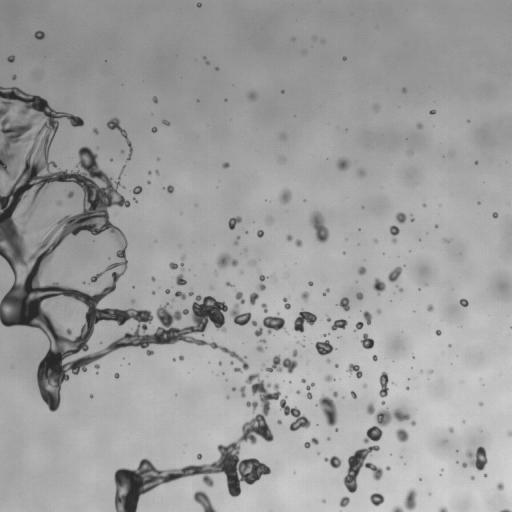droplet: (461, 446, 487, 471), (292, 308, 317, 332), (215, 252, 238, 269), (314, 339, 337, 356), (323, 455, 343, 468), (372, 277, 386, 295), (346, 363, 362, 378), (388, 266, 402, 282), (360, 333, 374, 349), (330, 318, 347, 331), (395, 427, 409, 442), (369, 492, 384, 506), (279, 188, 291, 205), (389, 225, 400, 243), (336, 157, 350, 171), (228, 216, 242, 230), (335, 297, 349, 311), (363, 310, 372, 325), (395, 212, 406, 224), (339, 496, 350, 507), (1, 78, 12, 89), (26, 85, 37, 96), (47, 98, 58, 109), (58, 117, 69, 128), (95, 159, 106, 170), (345, 164, 356, 175), (106, 204, 117, 215), (227, 247, 238, 258), (309, 285, 320, 296), (155, 294, 166, 305), (224, 296, 235, 307), (182, 297, 193, 308), (174, 299, 185, 310), (359, 299, 370, 310), (239, 302, 250, 313), (334, 308, 345, 319), (222, 310, 233, 321), (252, 310, 263, 321), (149, 318, 160, 329), (283, 318, 294, 329), (14, 323, 25, 334), (146, 323, 157, 334), (173, 339, 184, 350), (258, 371, 269, 382), (349, 377, 360, 388), (311, 388, 322, 399), (356, 396, 367, 407), (385, 402, 396, 413), (243, 410, 254, 421), (264, 415, 275, 426), (366, 415, 377, 426), (388, 418, 399, 429), (266, 420, 277, 431), (239, 440, 250, 451), (210, 450, 221, 461), (202, 454, 213, 465), (127, 460, 138, 471), (171, 460, 182, 471), (338, 462, 349, 473), (358, 466, 369, 477), (215, 471, 226, 482), (157, 481, 168, 492), (137, 493, 148, 504), (394, 495, 405, 506), (129, 185, 142, 194), (300, 291, 310, 302), (353, 321, 363, 332), (34, 30, 45, 39), (162, 185, 174, 193), (247, 91, 257, 100), (356, 168, 366, 177), (248, 259, 257, 269), (458, 298, 468, 307), (260, 302, 268, 313), (324, 374, 335, 382), (357, 266, 366, 275), (99, 124, 108, 133), (339, 150, 348, 159), (328, 158, 337, 167), (123, 191, 132, 200), (271, 191, 280, 200), (289, 193, 298, 202), (322, 219, 331, 228), (209, 253, 218, 262), (379, 274, 388, 283), (348, 297, 357, 306), (95, 300, 104, 309), (346, 319, 355, 328), (361, 324, 370, 333), (37, 349, 46, 358), (325, 364, 334, 373), (330, 368, 339, 377), (252, 391, 261, 400), (331, 396, 340, 405), (373, 403, 382, 412), (334, 410, 343, 419), (318, 413, 327, 422), (285, 414, 294, 423), (399, 420, 408, 429), (237, 451, 246, 460), (107, 479, 116, 488), (238, 480, 247, 489), (199, 483, 208, 492), (278, 132, 287, 140), (266, 216, 274, 225), (496, 481, 504, 490), (505, 480, 511, 491), (105, 505, 116, 511), (134, 505, 145, 511), (193, 505, 204, 511), (372, 505, 383, 511), (161, 119, 170, 126), (356, 291, 363, 300), (350, 390, 357, 399), (225, 281, 235, 287), (6, 55, 14, 62), (372, 104, 379, 112), (222, 162, 230, 169), (55, 200, 63, 207), (257, 229, 264, 237), (295, 239, 302, 247), (0, 52, 5, 63), (416, 122, 423, 129), (209, 60, 216, 67), (81, 140, 88, 147), (90, 146, 97, 153), (73, 154, 80, 161), (0, 189, 7, 196), (284, 201, 291, 208), (108, 216, 115, 223), (309, 227, 316, 234), (326, 234, 333, 241), (318, 241, 325, 248), (236, 261, 243, 268), (225, 263, 232, 270), (387, 264, 394, 271), (351, 266, 358, 273), (172, 268, 179, 275), (355, 273, 362, 280), (395, 276, 402, 283), (115, 278, 122, 285), (150, 282, 157, 289), (177, 284, 184, 291), (303, 284, 310, 291), (256, 289, 263, 296), (242, 293, 249, 300), (215, 295, 222, 302), (117, 303, 124, 310), (137, 303, 144, 310), (226, 303, 233, 310), (167, 307, 174, 314), (368, 308, 375, 315), (149, 309, 156, 316), (267, 309, 274, 316), (206, 320, 213, 327), (302, 320, 309, 327), (357, 328, 364, 335), (148, 342, 155, 349), (161, 342, 168, 349), (203, 344, 210, 351), (117, 346, 124, 353), (367, 347, 374, 354), (293, 355, 300, 362), (266, 359, 273, 366), (32, 360, 39, 367), (234, 360, 241, 367), (86, 362, 93, 369), (31, 364, 38, 371), (215, 365, 222, 372), (65, 368, 72, 375), (242, 369, 249, 376), (30, 372, 37, 379), (31, 380, 38, 387), (60, 380, 67, 387), (244, 384, 251, 391), (233, 389, 240, 396), (326, 392, 333, 399), (286, 400, 293, 407), (41, 402, 48, 409), (57, 402, 64, 409), (360, 404, 367, 411), (400, 407, 407, 414), (379, 424, 386, 431), (236, 429, 243, 436), (255, 434, 262, 441), (222, 439, 229, 446), (368, 439, 375, 446), (400, 440, 407, 447), (361, 442, 368, 449), (470, 446, 477, 453), (461, 455, 468, 462), (193, 459, 200, 466), (181, 460, 188, 467), (375, 461, 382, 468), (153, 462, 160, 469), (470, 465, 477, 472), (381, 469, 388, 476), (208, 472, 215, 479), (108, 473, 115, 480), (259, 473, 266, 480), (170, 478, 177, 485), (343, 489, 350, 496), (187, 493, 194, 500), (108, 494, 115, 501), (413, 495, 420, 502), (439, 500, 446, 507), (210, 501, 217, 508), (434, 502, 441, 509), (325, 314, 331, 322), (438, 506, 447, 511), (340, 506, 349, 511), (151, 126, 157, 133), (92, 128, 98, 135), (406, 150, 413, 156), (286, 234, 292, 241), (427, 304, 433, 311), (332, 390, 338, 397), (196, 453, 202, 460), (432, 505, 439, 511), (132, 197, 138, 203), (492, 212, 498, 218), (435, 329, 441, 335), (178, 355, 184, 361), (410, 420, 416, 426), (448, 427, 454, 433), (0, 168, 4, 177), (152, 96, 157, 103), (429, 109, 436, 114), (372, 354, 377, 361), (446, 506, 453, 511), (12, 74, 17, 80), (402, 87, 407, 93), (165, 288, 170, 294), (376, 308, 381, 314), (427, 369, 433, 374), (114, 372, 119, 378), (362, 382, 367, 388), (277, 419, 282, 425), (385, 465, 391, 470), (402, 507, 409, 511), (410, 507, 417, 511), (196, 2, 201, 7), (205, 60, 210, 65), (373, 238, 378, 243), (308, 281, 313, 286), (209, 285, 214, 290), (301, 378, 306, 383), (470, 475, 475, 480), (43, 34, 48, 39), (37, 38, 42, 43), (6, 51, 11, 56), (13, 57, 18, 62), (200, 59, 205, 64), (19, 85, 24, 90), (405, 85, 410, 90), (39, 93, 44, 98), (156, 96, 161, 101), (148, 99, 153, 104), (72, 111, 77, 116), (79, 114, 84, 119), (105, 116, 110, 121), (165, 116, 170, 121), (118, 122, 123, 127), (411, 123, 416, 128), (75, 125, 80, 130), (105, 127, 110, 132), (113, 127, 118, 132), (417, 128, 422, 133), (89, 131, 94, 136), (124, 145, 129, 150), (131, 150, 136, 155), (47, 156, 52, 161), (222, 157, 227, 162), (228, 160, 233, 165), (217, 163, 222, 168), (225, 166, 230, 171), (150, 170, 155, 175), (146, 174, 151, 179), (119, 179, 124, 184), (168, 180, 173, 185), (116, 187, 121, 192), (172, 188, 177, 193), (166, 192, 171, 197), (134, 193, 139, 198), (129, 199, 134, 204), (120, 204, 125, 209), (231, 212, 236, 217), (497, 212, 502, 217), (405, 215, 410, 220), (394, 221, 399, 226), (234, 222, 239, 227), (224, 224, 229, 229), (252, 232, 257, 237), (388, 233, 393, 238), (394, 233, 399, 238), (281, 234, 286, 239), (445, 234, 450, 239), (298, 235, 303, 240), (237, 238, 242, 243), (290, 238, 295, 243), (301, 240, 306, 245), (389, 242, 394, 247), (442, 242, 447, 247), (296, 246, 301, 251), (124, 249, 129, 254), (175, 259, 180, 264), (362, 262, 367, 267), (213, 263, 218, 268), (182, 275, 187, 280), (171, 278, 176, 283), (255, 278, 260, 283), (262, 279, 267, 284), (370, 279, 375, 284), (236, 286, 241, 291), (264, 286, 269, 291), (353, 288, 358, 293), (372, 288, 377, 293), (169, 290, 174, 295), (193, 290, 198, 295), (379, 290, 384, 295), (208, 291, 213, 296), (231, 291, 236, 296), (296, 291, 301, 296), (342, 292, 347, 297), (200, 293, 205, 298), (362, 293, 367, 298), (175, 295, 180, 300), (307, 295, 312, 300), (254, 298, 259, 303), (286, 298, 291, 303), (335, 298, 340, 303), (426, 299, 431, 304), (347, 301, 352, 306), (422, 304, 427, 309), (432, 304, 437, 309), (338, 305, 343, 310), (178, 306, 183, 311), (307, 307, 312, 312), (426, 310, 431, 315), (262, 312, 267, 317), (271, 312, 276, 317), (294, 312, 299, 317), (278, 313, 283, 318), (249, 315, 254, 320), (370, 317, 375, 322), (361, 318, 366, 323), (246, 320, 251, 325), (313, 320, 318, 325), (328, 320, 333, 325), (239, 324, 244, 329), (253, 325, 258, 330), (32, 326, 37, 331), (262, 326, 267, 331), (336, 326, 341, 331), (278, 327, 283, 332), (270, 328, 275, 333), (295, 329, 300, 334), (367, 333, 372, 338), (258, 334, 263, 339), (320, 337, 325, 342), (216, 340, 221, 345), (328, 340, 333, 345), (191, 342, 196, 347), (260, 342, 265, 347), (357, 342, 362, 347), (372, 342, 377, 347), (200, 344, 205, 349), (295, 344, 300, 349), (125, 345, 130, 350), (136, 345, 141, 350), (227, 345, 232, 350), (141, 347, 146, 352), (214, 347, 219, 352), (312, 347, 317, 352), (235, 349, 240, 354), (255, 350, 260, 355), (273, 350, 278, 355), (296, 350, 301, 355), (181, 351, 186, 356), (224, 352, 229, 357), (238, 352, 243, 357), (325, 352, 330, 357), (148, 354, 153, 359), (231, 356, 236, 361), (279, 356, 284, 361), (244, 358, 249, 363), (92, 359, 97, 364), (122, 359, 127, 364), (351, 360, 356, 365), (329, 361, 334, 366), (344, 364, 349, 369), (282, 366, 287, 371), (358, 366, 363, 371), (97, 367, 102, 372), (292, 367, 297, 372), (422, 369, 427, 374), (351, 370, 356, 375), (376, 371, 381, 376), (428, 373, 433, 378), (360, 374, 365, 379), (387, 375, 392, 380), (305, 380, 310, 385), (405, 380, 410, 385), (301, 382, 306, 387), (385, 382, 390, 387), (235, 385, 240, 390), (376, 385, 381, 390), (228, 390, 233, 395), (337, 391, 342, 396), (347, 393, 352, 398), (278, 394, 283, 399), (382, 395, 387, 400), (378, 396, 383, 401), (478, 396, 483, 401), (242, 397, 247, 402), (473, 401, 478, 406), (306, 415, 311, 420), (333, 422, 338, 427), (366, 423, 371, 428), (330, 424, 335, 429), (452, 425, 457, 430), (298, 426, 303, 431), (314, 434, 319, 439), (379, 435, 384, 440), (306, 437, 311, 442), (266, 440, 271, 445), (309, 441, 314, 446), (370, 449, 375, 454), (484, 449, 489, 454), (349, 450, 354, 455), (192, 451, 197, 456), (319, 454, 324, 459), (326, 454, 331, 459), (257, 457, 262, 462), (362, 458, 367, 463), (398, 458, 403, 463), (264, 461, 269, 466), (457, 462, 462, 467), (483, 463, 488, 468), (254, 479, 259, 484), (492, 482, 497, 487), (502, 482, 507, 487), (355, 486, 360, 491), (377, 489, 382, 494), (497, 489, 502, 494), (189, 491, 194, 496), (321, 493, 326, 498), (235, 494, 240, 499), (336, 496, 341, 501), (369, 502, 374, 507), (378, 502, 383, 507), (345, 503, 350, 508), (502, 504, 507, 509), (155, 169, 159, 175), (151, 276, 155, 282), (326, 357, 330, 363), (507, 430, 511, 436), (0, 255, 3, 262), (0, 293, 3, 300), (320, 39, 325, 43), (342, 56, 347, 60), (474, 160, 478, 165), (147, 180, 151, 185), (243, 247, 247, 252), (218, 360, 222, 365), (231, 387, 236, 391), (295, 390, 300, 394), (381, 400, 385, 405), (478, 402, 483, 406), (334, 427, 338, 432), (326, 436, 331, 440), (483, 473, 487, 478), (321, 499, 326, 503), (291, 37, 295, 41), (280, 89, 284, 93), (120, 149, 124, 153), (422, 203, 426, 207), (434, 224, 438, 228), (151, 290, 155, 294), (131, 299, 135, 303), (334, 363, 338, 367), (478, 377, 482, 381), (405, 386, 409, 390), (341, 395, 345, 399), (316, 451, 320, 455), (418, 477, 422, 481), (214, 67, 219, 70), (148, 170, 151, 175), (240, 270, 243, 275), (230, 360, 233, 365), (508, 435, 511, 440), (508, 505, 511, 510), (111, 508, 116, 511), (202, 56, 206, 59), (466, 119, 470, 122), (156, 157, 159, 161), (109, 158, 113, 161), (477, 201, 481, 204), (194, 203, 197, 207), (361, 205, 364, 209), (154, 238, 157, 242), (342, 251, 345, 255), (82, 281, 86, 284), (337, 335, 341, 338), (172, 357, 175, 361), (420, 369, 423, 373), (90, 394, 93, 398), (226, 395, 229, 399), (462, 419, 465, 423), (440, 468, 444, 471), (197, 0, 202, 2), (0, 124, 2, 129), (0, 321, 2, 326), (196, 99, 199, 102), (224, 98, 227, 101), (96, 146, 99, 149), (303, 199, 306, 202), (180, 212, 183, 215), (358, 228, 361, 231), (92, 239, 95, 242), (418, 238, 421, 241), (382, 252, 385, 255), (107, 257, 110, 260), (355, 280, 358, 283), (132, 285, 135, 288), (99, 341, 102, 344), (448, 344, 451, 347), (412, 356, 415, 359), (221, 372, 224, 375), (288, 380, 291, 383), (174, 393, 177, 396), (444, 439, 447, 442), (455, 460, 458, 463), (403, 462, 406, 465), (439, 473, 442, 476), (428, 492, 431, 495), (200, 4, 203, 7), (195, 6, 198, 9), (34, 28, 37, 31), (40, 28, 43, 31), (31, 31, 34, 34), (202, 52, 205, 55), (339, 55, 342, 58), (103, 56, 106, 59), (205, 57, 208, 60), (101, 59, 104, 62), (106, 59, 109, 62), (344, 59, 347, 62), (7, 61, 10, 64), (214, 63, 217, 66), (217, 64, 220, 67), (213, 69, 216, 72), (12, 71, 15, 74), (9, 74, 12, 77), (15, 76, 18, 79), (402, 84, 405, 87), (280, 86, 283, 89), (399, 87, 402, 90), (283, 90, 286, 93), (279, 92, 282, 95), (223, 95, 226, 98), (226, 96, 229, 99), (198, 97, 201, 100), (193, 98, 196, 101), (196, 101, 199, 104), (223, 101, 226, 104), (153, 102, 156, 105), (428, 107, 431, 110), (430, 113, 433, 116), (467, 116, 470, 119), (169, 122, 172, 125), (466, 122, 469, 125), (162, 123, 165, 126), (150, 124, 153, 127), (156, 126, 159, 129), (56, 127, 59, 130), (96, 127, 99, 130), (148, 127, 151, 130), (150, 131, 153, 134), (154, 131, 157, 134), (54, 132, 57, 135), (126, 134, 129, 137), (53, 135, 56, 138), (121, 136, 124, 139), (51, 139, 54, 142), (50, 142, 53, 145), (130, 143, 133, 146), (117, 149, 120, 152), (125, 154, 128, 157), (130, 154, 133, 157), (108, 155, 111, 158), (153, 156, 156, 159), (112, 157, 115, 160), (127, 159, 130, 162), (54, 161, 57, 164), (471, 161, 474, 164), (477, 161, 480, 164), (119, 164, 122, 167), (123, 167, 126, 170), (158, 169, 161, 172), (144, 170, 147, 173), (120, 174, 123, 177), (115, 178, 118, 181), (138, 183, 141, 186), (148, 183, 151, 186), (132, 184, 135, 187), (164, 185, 167, 188), (139, 191, 142, 194), (304, 196, 307, 199), (475, 198, 478, 201), (478, 198, 481, 201), (265, 200, 268, 203), (423, 200, 426, 203), (477, 204, 480, 207), (126, 206, 129, 209), (422, 206, 425, 209), (489, 214, 492, 217), (226, 217, 229, 220), (492, 217, 495, 220), (412, 220, 415, 223), (437, 223, 440, 226), (357, 224, 360, 227), (431, 224, 434, 227), (354, 227, 357, 230), (360, 227, 363, 230), (434, 227, 437, 230), (262, 233, 265, 236), (256, 236, 259, 239), (420, 236, 423, 239), (233, 237, 236, 240), (126, 239, 129, 242), (415, 239, 418, 242), (240, 249, 243, 252), (345, 251, 348, 254), (339, 252, 342, 255), (255, 258, 258, 261), (126, 262, 129, 265), (405, 263, 408, 266), (400, 265, 403, 268), (123, 271, 126, 274), (263, 273, 266, 276), (148, 276, 151, 279), (154, 276, 157, 279), (225, 278, 228, 281), (309, 278, 312, 281), (305, 279, 308, 282), (222, 281, 225, 284), (131, 282, 134, 285), (312, 282, 315, 285), (417, 284, 420, 287), (134, 285, 137, 288), (227, 285, 230, 288), (309, 285, 312, 288), (129, 286, 132, 289), (162, 287, 165, 290), (402, 287, 405, 290), (414, 287, 417, 290), (329, 288, 332, 291), (148, 289, 151, 292), (154, 290, 157, 293), (416, 290, 419, 293), (162, 291, 165, 294), (400, 291, 403, 294), (325, 292, 328, 295), (319, 293, 322, 296), (151, 294, 154, 297), (283, 294, 286, 297), (280, 295, 283, 298), (458, 296, 461, 299), (391, 298, 394, 301), (466, 298, 469, 301), (456, 299, 459, 302), (460, 305, 463, 308), (465, 305, 468, 308), (411, 311, 414, 314), (337, 316, 340, 319), (354, 320, 357, 323), (436, 326, 439, 329), (507, 327, 510, 330), (440, 331, 443, 334), (433, 332, 436, 335), (448, 340, 451, 343), (301, 341, 304, 344), (444, 343, 447, 346), (450, 343, 453, 346), (446, 346, 449, 349), (414, 355, 417, 358), (183, 356, 186, 359), (369, 356, 372, 359), (376, 356, 379, 359), (175, 357, 178, 360), (169, 358, 172, 361), (411, 358, 414, 361), (204, 360, 207, 363), (215, 361, 218, 364), (127, 364, 130, 367), (407, 365, 410, 368), (412, 366, 415, 369), (428, 366, 431, 369), (334, 367, 337, 370), (432, 370, 435, 373), (111, 372, 114, 375), (118, 372, 121, 375), (218, 372, 221, 375), (361, 372, 364, 375), (407, 374, 410, 377), (118, 375, 121, 378), (302, 375, 305, 378), (113, 377, 116, 380), (335, 377, 338, 380), (298, 378, 301, 381), (285, 379, 288, 382), (330, 379, 333, 382), (480, 380, 483, 383), (231, 384, 234, 387), (408, 385, 411, 388), (228, 387, 231, 390), (294, 387, 297, 390), (403, 388, 406, 391), (305, 389, 308, 392), (354, 391, 357, 394), (294, 392, 297, 395), (92, 393, 95, 396), (86, 394, 89, 397), (223, 397, 226, 400), (228, 397, 231, 400), (306, 398, 309, 401), (482, 401, 485, 404), (480, 405, 483, 408), (464, 420, 467, 423), (337, 428, 340, 431), (446, 430, 449, 433), (334, 431, 337, 434), (328, 439, 331, 442), (301, 441, 304, 444), (455, 446, 458, 449), (452, 449, 455, 452), (391, 452, 394, 455), (400, 452, 403, 455), (389, 455, 392, 458), (396, 455, 399, 458), (452, 460, 455, 463), (389, 465, 392, 468), (438, 465, 441, 468), (443, 467, 446, 470), (295, 470, 298, 473), (440, 471, 443, 474), (486, 473, 489, 476), (438, 475, 441, 478), (467, 476, 470, 479), (485, 476, 488, 479), (415, 477, 418, 480), (421, 477, 424, 480), (471, 479, 474, 482), (418, 480, 421, 483), (427, 495, 430, 498), (325, 499, 328, 502), (320, 502, 323, 505), (456, 449, 458, 453), (345, 128, 347, 131), (408, 250, 411, 252), (403, 264, 405, 267), (225, 378, 227, 381), (407, 378, 410, 380), (400, 455, 402, 458), (509, 322, 511, 325), (442, 155, 444, 157), (265, 199, 267, 201), (253, 221, 255, 223), (345, 238, 347, 240), (357, 243, 359, 245), (188, 269, 190, 271), (425, 283, 427, 285), (418, 288, 420, 290), (413, 310, 415, 312), (208, 361, 210, 363), (266, 375, 268, 377), (482, 384, 484, 386), (316, 424, 318, 426), (389, 453, 391, 455), (105, 60, 107, 61), (158, 287, 160, 288), (123, 357, 124, 359), (128, 363, 130, 364), (339, 510, 341, 511), (242, 342, 243, 343)
ligament: (106, 117, 133, 162), (248, 269, 277, 305), (315, 394, 338, 426), (309, 210, 329, 243), (390, 488, 417, 511), (169, 252, 187, 286), (192, 490, 217, 511), (379, 371, 389, 397), (304, 437, 319, 449), (305, 382, 315, 399), (282, 295, 290, 309), (233, 235, 240, 245), (295, 340, 305, 347), (322, 288, 329, 297), (395, 285, 403, 292), (442, 238, 452, 243), (409, 213, 414, 222), (321, 332, 330, 336), (499, 508, 511, 511), (241, 230, 248, 234), (214, 269, 217, 276), (302, 334, 305, 341), (391, 382, 396, 385), (293, 469, 295, 474), (179, 244, 181, 248), (414, 377, 416, 378)
